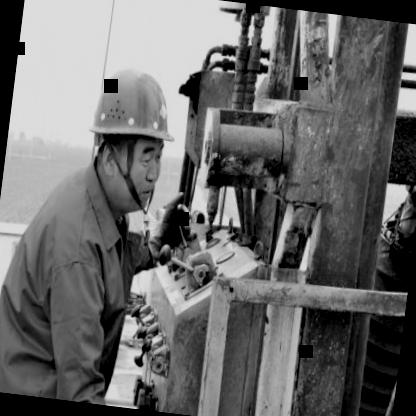helmet: (70, 44, 190, 224)
